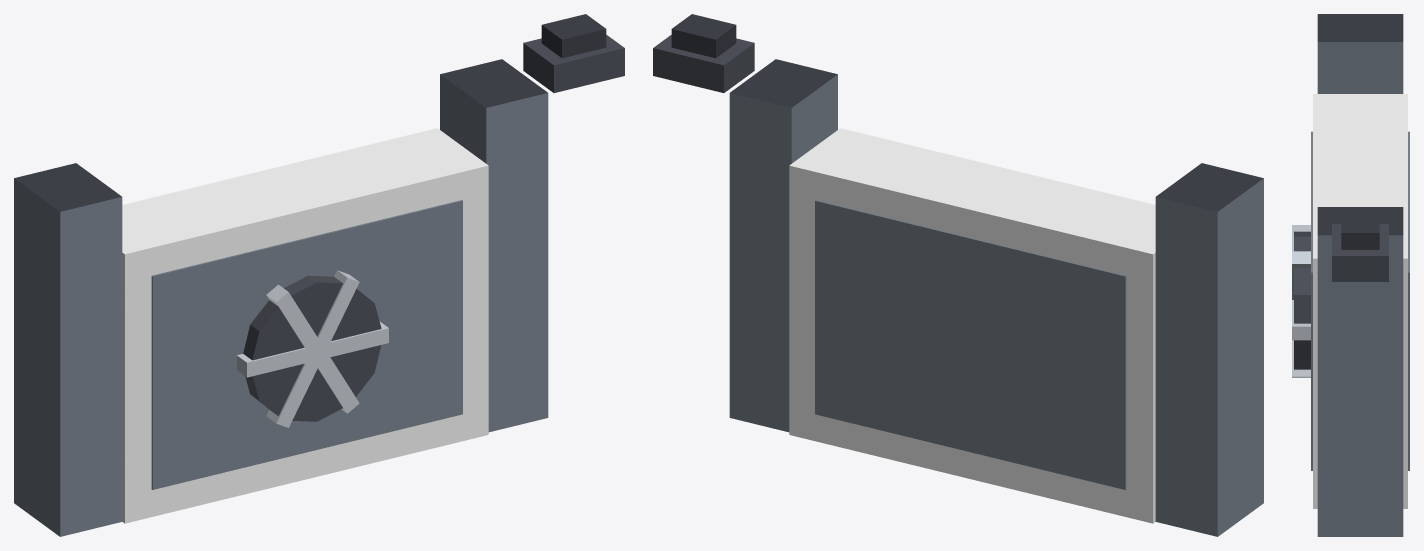
The model's file is env_door_vault.glb.
3 views of the same model, side by side, from view 1: azimuth 30°, elevation 25°; view 2: azimuth 150°, elevation 25°; view 3: azimuth 270°, elevation 25° (orthographic). The views are drawn at different scales.
Visible parts, largest first — view 1: leaf, frame, wheel, sensor; view 2: leaf, frame, sensor; view 3: frame, leaf, sensor, wheel.
Boxes of the visible parts, <box> form: leaf: <box>122,128,488,523</box>; frame: <box>14,59,548,536</box>; wheel: <box>237,270,388,427</box>; sensor: <box>523,14,624,92</box>; leaf: <box>789,128,1155,523</box>; frame: <box>729,59,1263,536</box>; sensor: <box>653,14,754,92</box>; frame: <box>1317,14,1403,536</box>; leaf: <box>1311,94,1409,508</box>; sensor: <box>1332,212,1388,281</box>; wheel: <box>1292,225,1310,377</box>.
Bounding box in the file's own units: 0.645 × 0.39 × 0.124.
3 materials, 1 textured.
